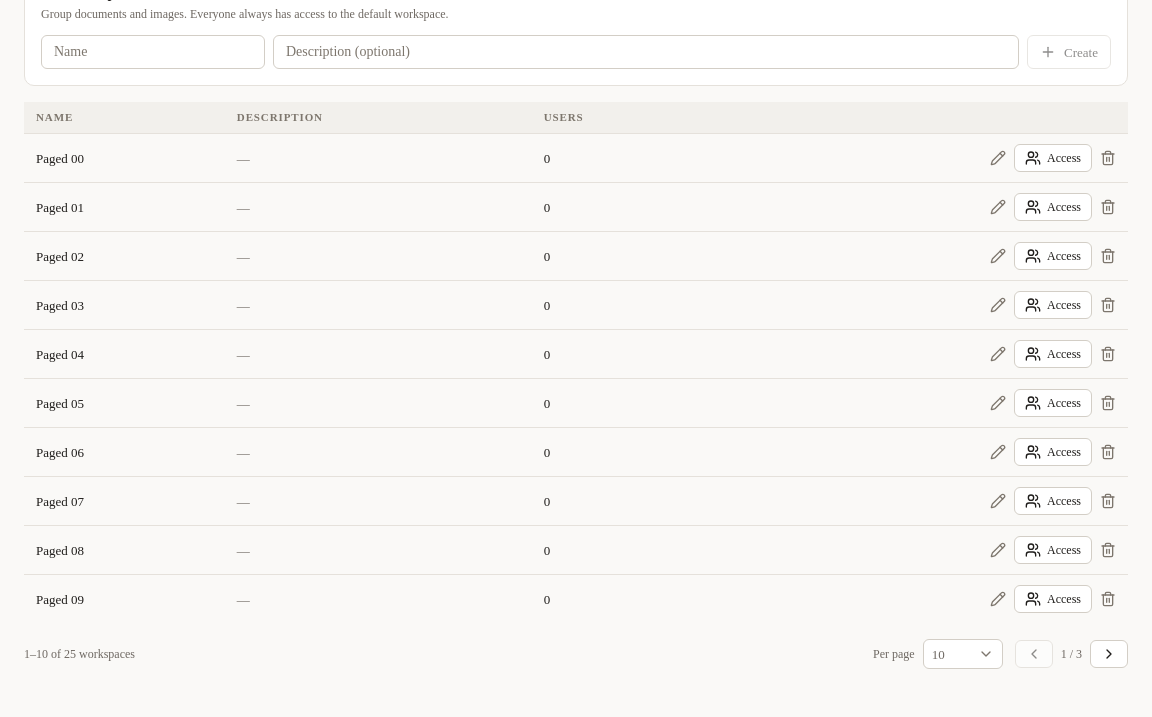
Scenario: pagination › pages forward over the same list
(page scrolled)
Click the button named "Next page": (1109, 654) [1090, 640, 1128, 668]
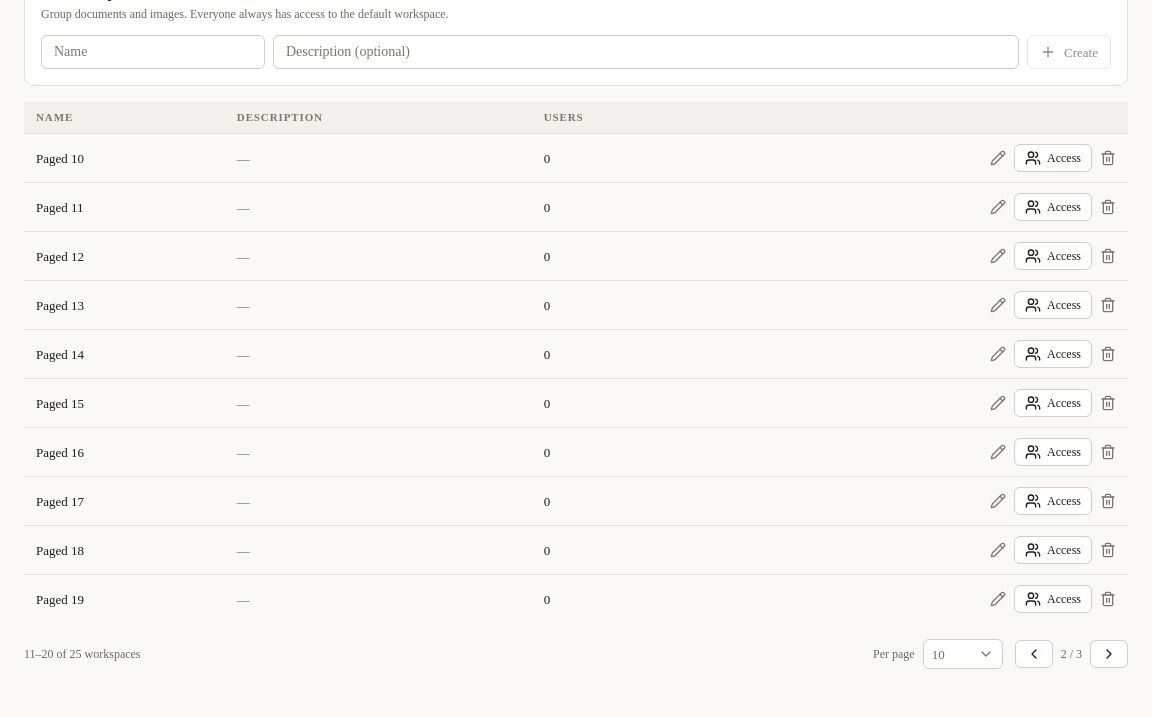
Now the text "Paged 10" is shown, box [36, 150, 84, 166]
Now the text "Paged 00" is gone
